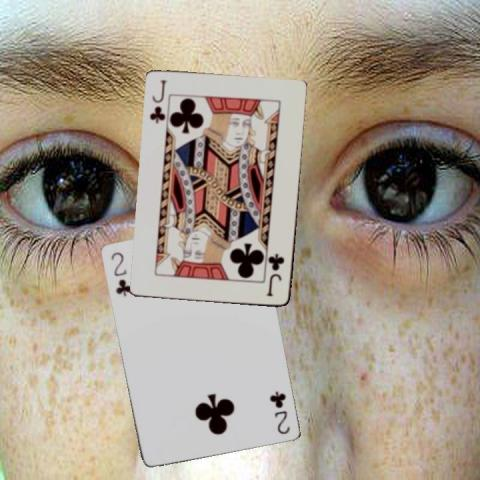2c: (107, 249, 133, 297), (267, 387, 291, 436)
Jc: (146, 77, 168, 126), (265, 251, 286, 298)
